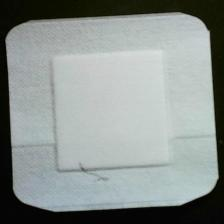Dressing: (5, 12, 223, 215)
F_Body: (72, 160, 112, 187)
